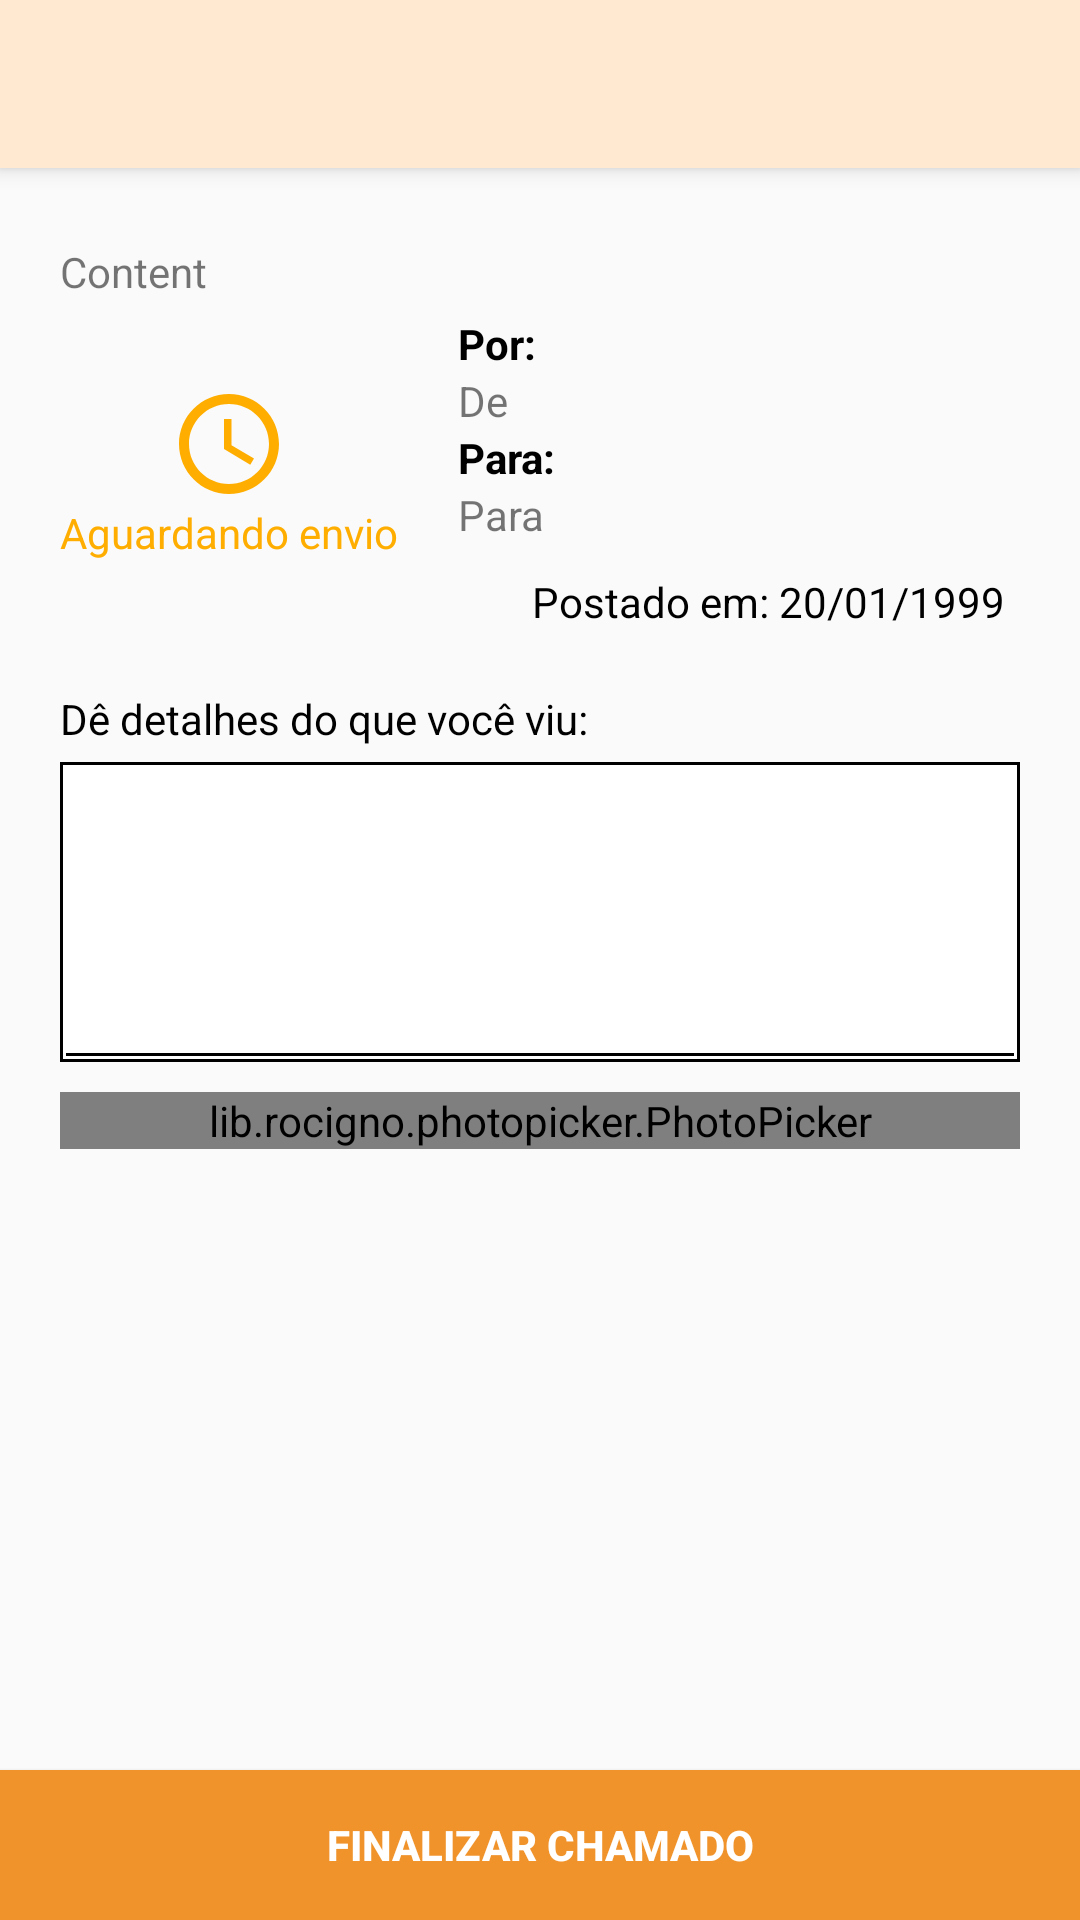

Named icons in this screenshot (1080×1920) and their bounding boxes, box(x1, y1, x2, y2):
access time: box(179, 394, 279, 494)
